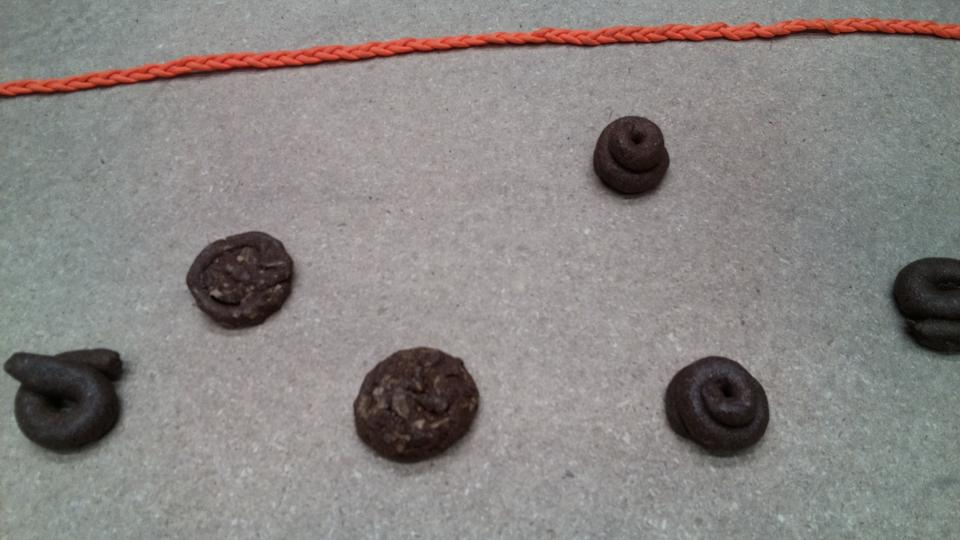poop: (350, 343, 485, 469), (1, 342, 128, 457), (184, 227, 301, 334), (663, 353, 771, 461), (888, 255, 960, 358), (588, 113, 672, 199)
rope: (1, 13, 958, 104)
